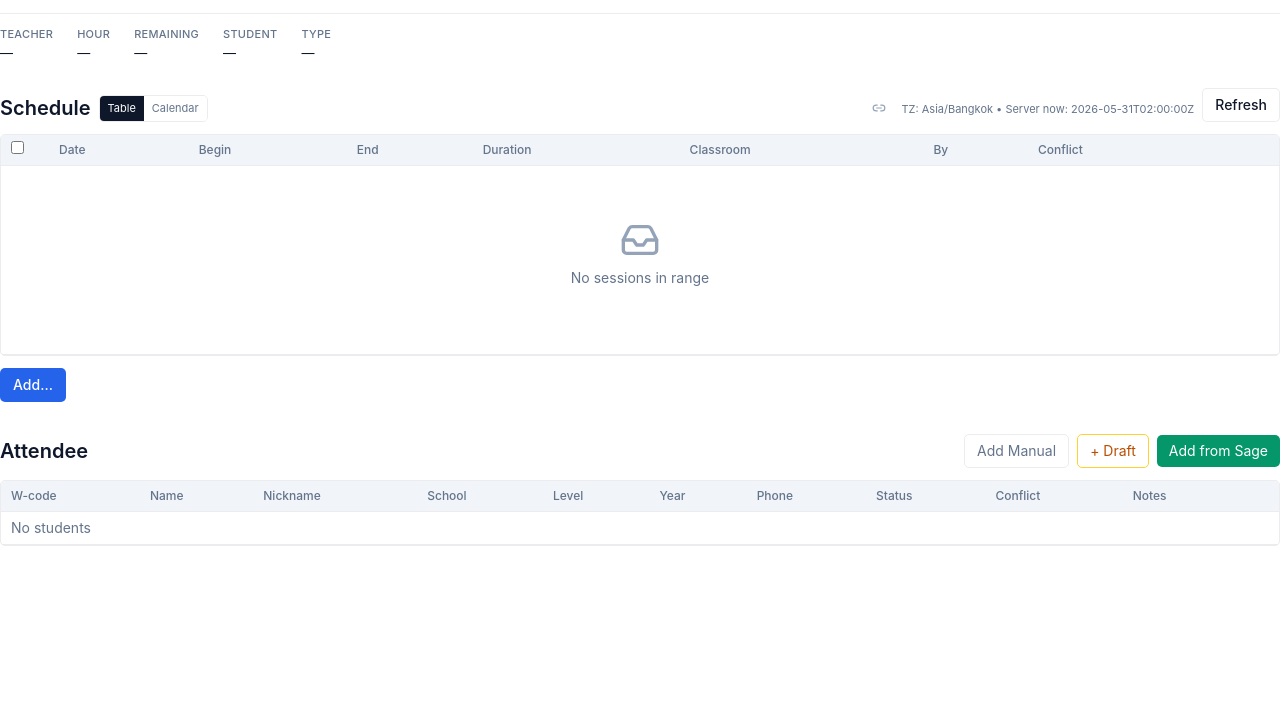
Test: CourseDetail create flows › explains a blocked slot and disables the create button until fixed
Click the button "Add…". click: (33, 384)
box: [0,368,66,402]
(page scrolled)
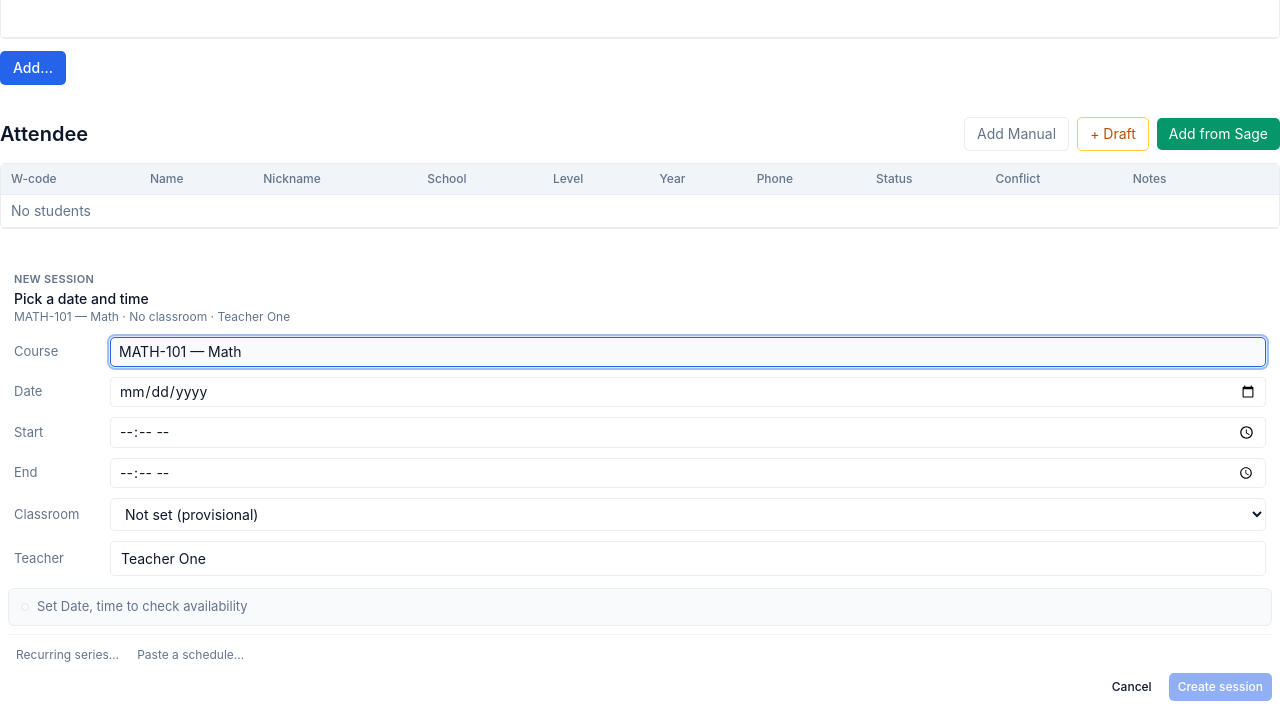
Select "Room 101" in the dropdown labelled "Classroom". click: (688, 515)
box: [110,498,1266,531]
(page scrolled)
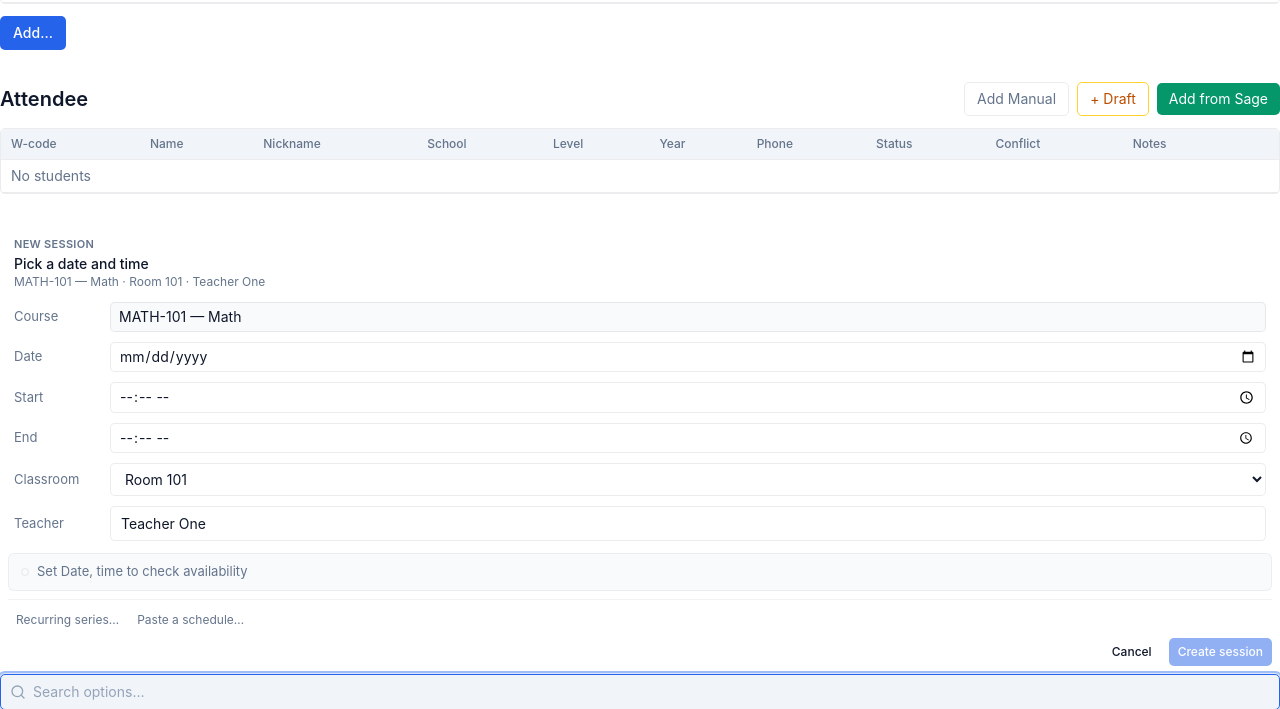
Type "2026-05-31" into the date field labelled "Date". click: (688, 357)
box: [110,342,1266,372]
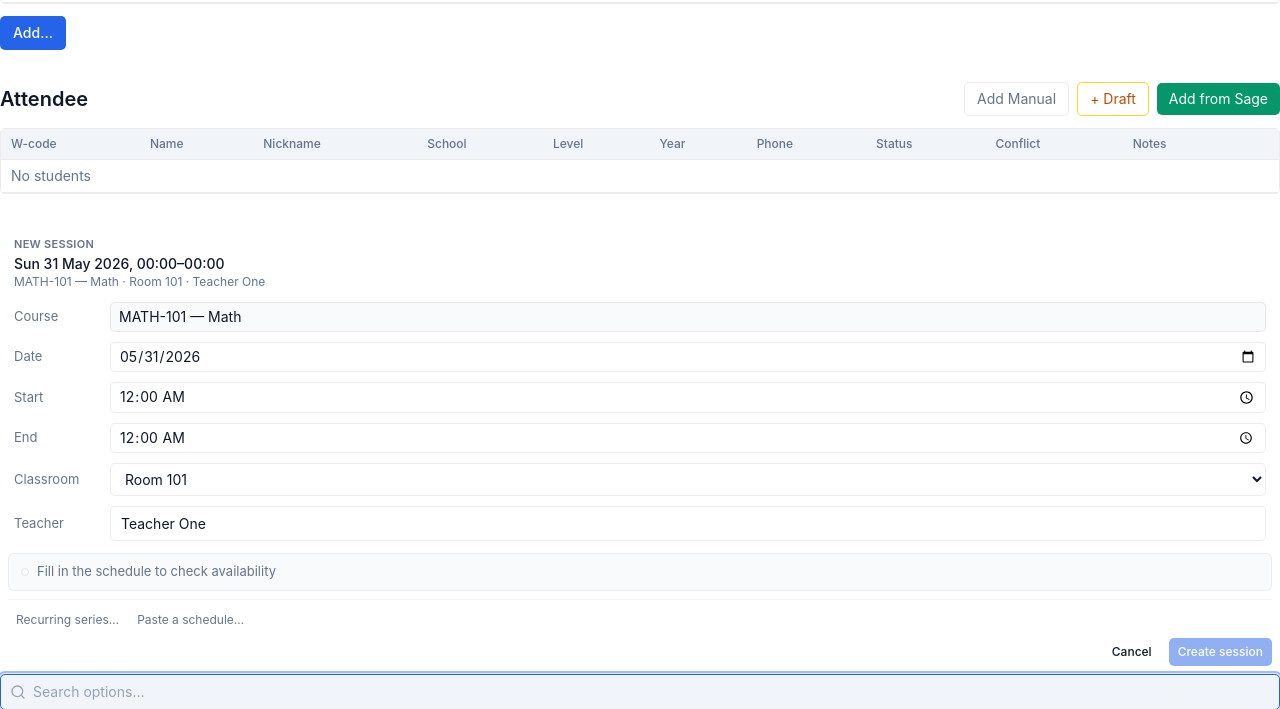
Replace the text in the time field labelled "Start" with "10:00". click: (688, 397)
box: [110,382,1266,413]
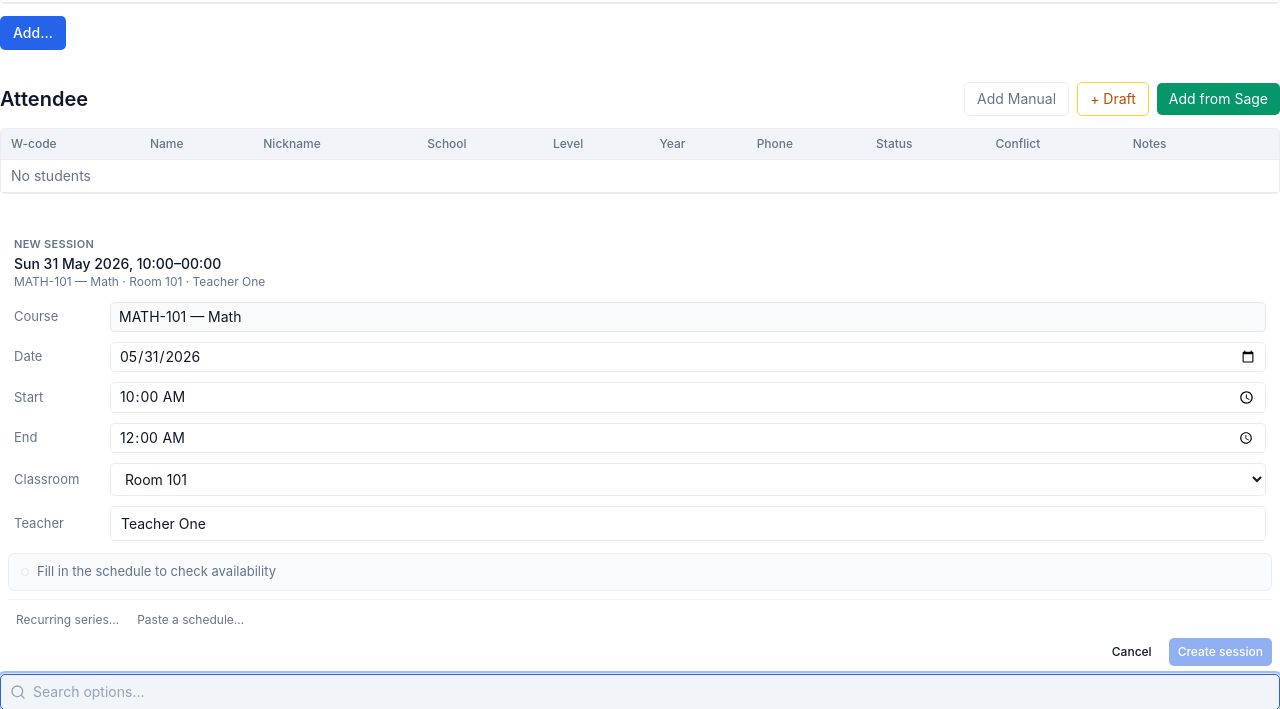
Replace the text in the time field labelled "End" with "12:00". click: (688, 438)
box: [110,423,1266,453]
(page scrolled)
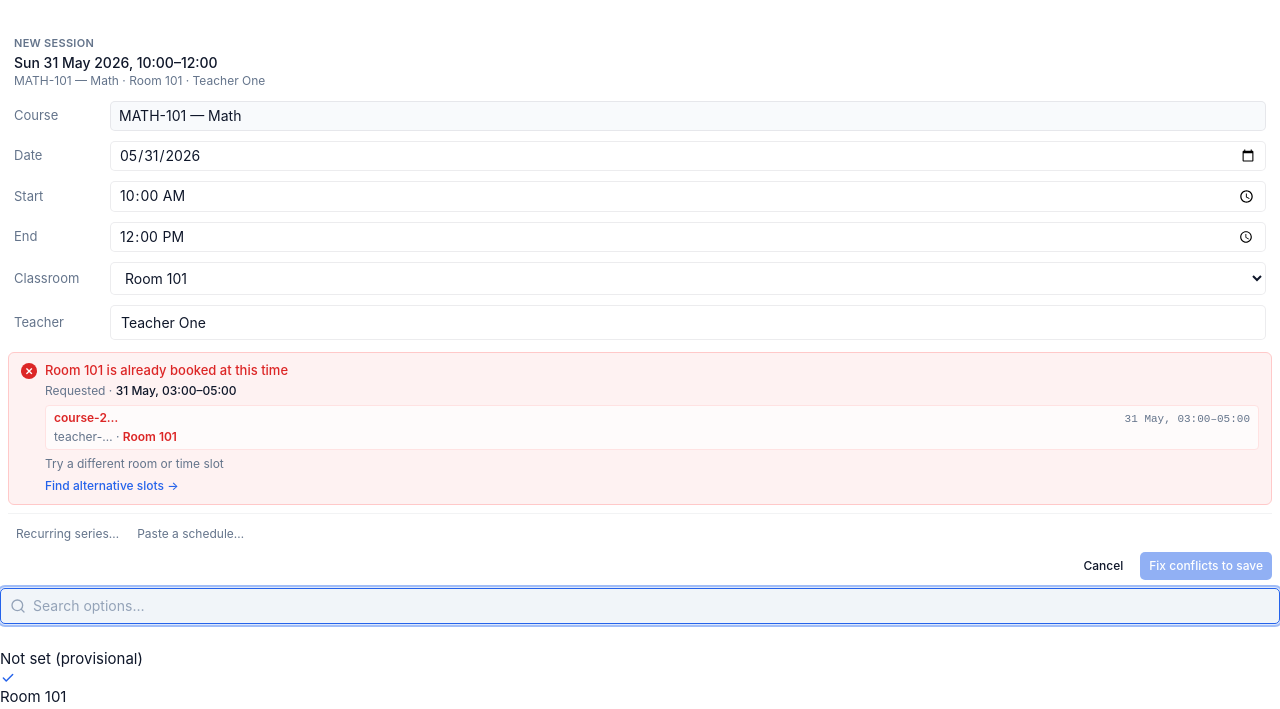
Check: the button "Fix conflicts to save" is disabled, box [1140,552,1272,580]
Check: the text "Room 101 is already booked at this time" is shown, box [45,362,288,378]
Check: the text "Try a different room or time slot" is shown, box [45,456,224,471]
